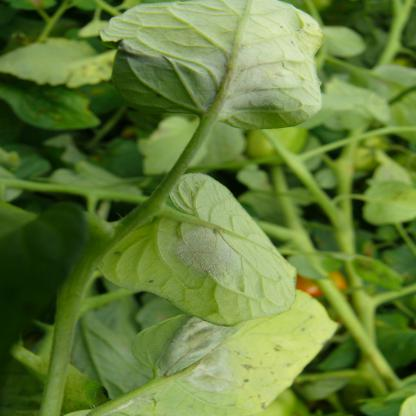tomato leaf late blight: (104, 286, 355, 413), (90, 1, 335, 128), (96, 169, 296, 320)
